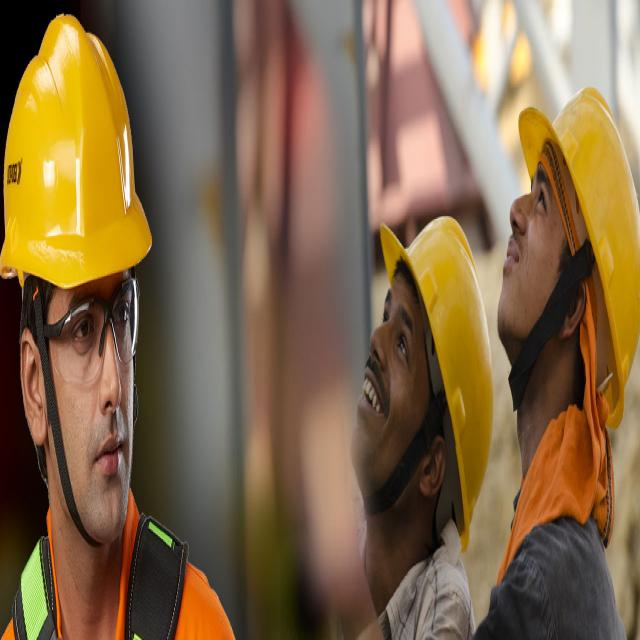Reflective-Jacket: (5, 513, 228, 640)
Safety-Helmet: (0, 14, 152, 296), (518, 79, 640, 422), (378, 202, 496, 543)
